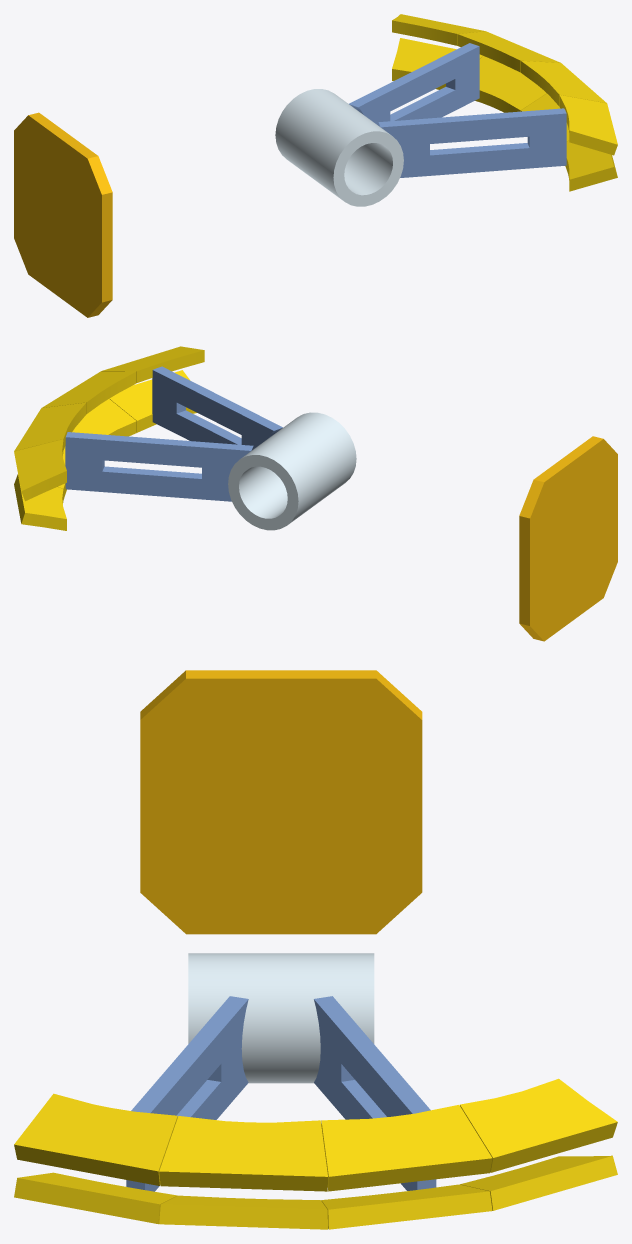
File: internals.gltf
3 renders of one model, top to bottom at view 1: azimuth 30°, elevation 25°; view 2: azimuth 150°, elevation 25°; view 3: azimuth 270°, elevation 25°, orthographic. The views are drawn at different scales.
Parts seen in each view (by area): view 1: Part 5, Part 2, Part 10, Part 12, Part 11, Part 23, Part 6, Part 13, Part 8, Part 20, Part 9, Part 7 (+2 smaller); view 2: Part 5, Part 2, Part 11, Part 13, Part 10, Part 7, Part 12, Part 9, Part 8, Part 21, Part 6, Part 22 (+1 smaller); view 3: Part 5, Part 2, Part 8, Part 9, Part 6, Part 7, Part 11, Part 10, Part 23, Part 22, Part 20, Part 21 (+2 smaller).
Part boxes in pixels (x1,y1,x2,y2): Part 5: (14, 112, 112, 317); Part 2: (275, 89, 403, 206); Part 10: (378, 108, 566, 151); Part 12: (400, 138, 566, 177); Part 11: (349, 43, 479, 123); Part 23: (475, 56, 546, 112); Part 6: (559, 95, 617, 155); Part 13: (376, 72, 479, 126); Part 8: (521, 61, 606, 106); Part 20: (565, 141, 617, 191); Part 9: (457, 31, 560, 72); Part 7: (392, 14, 485, 45); Part 5: (519, 436, 617, 641); Part 2: (228, 412, 356, 530); Part 11: (65, 432, 253, 475); Part 13: (65, 461, 231, 501); Part 10: (152, 366, 282, 447); Part 7: (14, 439, 66, 501); Part 12: (152, 396, 255, 450); Part 9: (14, 402, 86, 451); Part 8: (42, 371, 136, 414); Part 21: (14, 474, 66, 530); Part 6: (101, 346, 204, 382); Part 22: (72, 399, 136, 436); Part 5: (140, 670, 422, 934); Part 2: (188, 953, 374, 1083); Part 8: (159, 1116, 327, 1191); Part 9: (321, 1105, 492, 1191); Part 6: (14, 1093, 177, 1185); Part 7: (460, 1078, 617, 1172); Part 11: (314, 996, 430, 1116); Part 10: (131, 996, 248, 1115); Part 23: (321, 1184, 492, 1229); Part 22: (159, 1195, 327, 1229); Part 20: (14, 1172, 177, 1224); Part 21: (460, 1155, 617, 1210).
Bounding box in the file's own units: 0.3033 × 0.0891 × 0.191.
